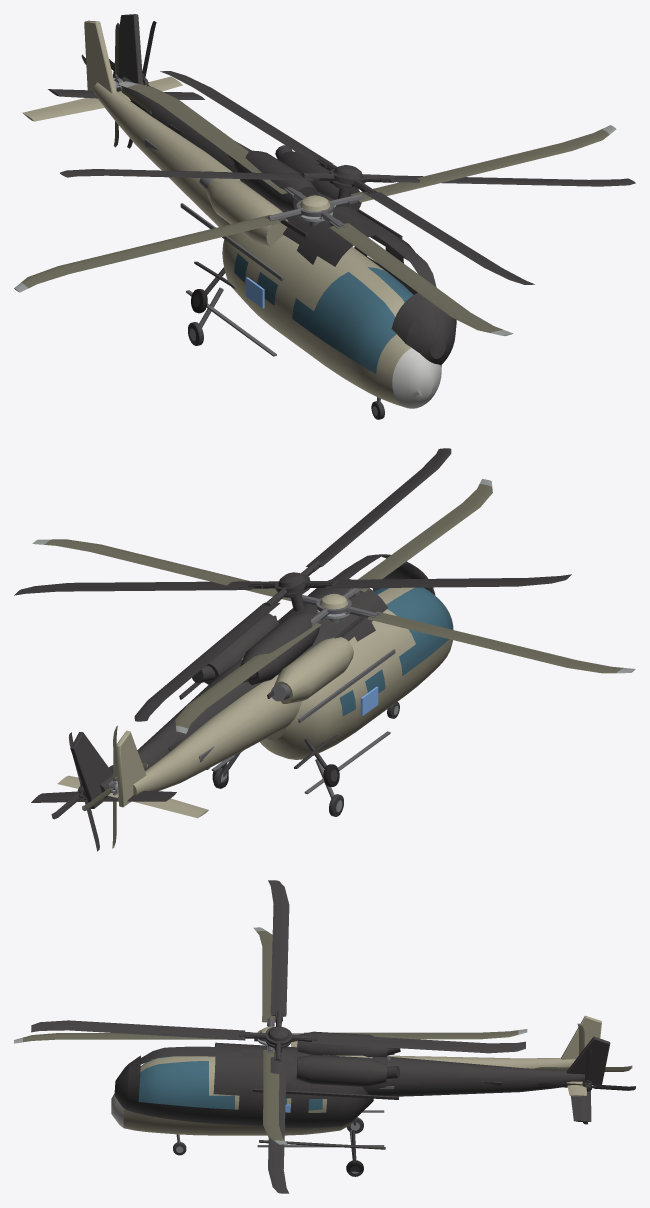
The model's file is helicopter__kuh_1_surion.glb.
3 views of the same model, one above another, from view 1: azimuth 30°, elevation 25°; view 2: azimuth 150°, elevation 25°; view 3: azimuth 270°, elevation 25° (orthographic). The views are drawn at different scales.
Visible parts, largest first — view 1: Fuselage_Mesh, Wreck, Rotor_Main_Mesh, Engines_Mesh, Landing_Gear_Mesh, Rotor_Tail_Mesh; view 2: Wreck, Fuselage_Mesh, Rotor_Main_Mesh, Engines_Mesh, Landing_Gear_Mesh, Rotor_Tail_Mesh; view 3: Wreck, Fuselage_Mesh, Rotor_Main_Mesh, Landing_Gear_Mesh.
Boxes of the visible parts, x1,y1,x2,y2 form: Fuselage_Mesh: (22,20,441,408); Wreck: (48,14,635,365); Rotor_Main_Mesh: (14,81,616,335); Engines_Mesh: (199,171,288,246); Landing_Gear_Mesh: (188,287,384,419); Rotor_Tail_Mesh: (81,23,151,147); Wreck: (14,448,571,851); Fuselage_Mesh: (57,587,453,818); Rotor_Main_Mesh: (32,479,635,733); Engines_Mesh: (228,637,353,703); Landing_Gear_Mesh: (213,702,399,816); Rotor_Tail_Mesh: (82,725,147,848); Wreck: (31,880,635,1193); Fuselage_Mesh: (111,1015,601,1147); Rotor_Main_Mesh: (14,927,527,1144); Landing_Gear_Mesh: (173,1117,363,1176).
Size of what is drawn, in the model's own units: 16.28 by 6.33 by 19.14.
